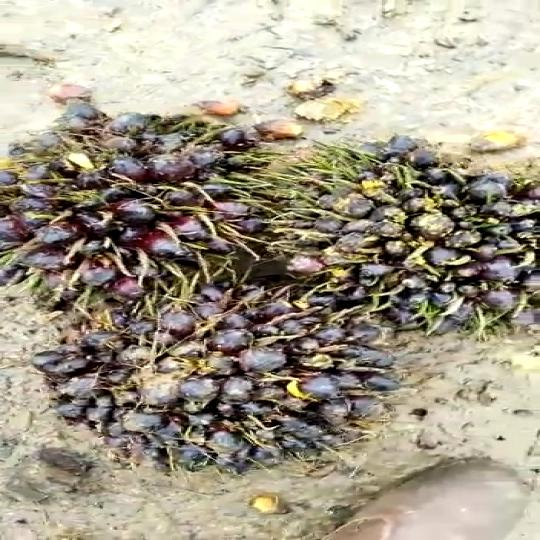mentah: (42, 268, 412, 492), (254, 126, 540, 333), (0, 96, 265, 314)
